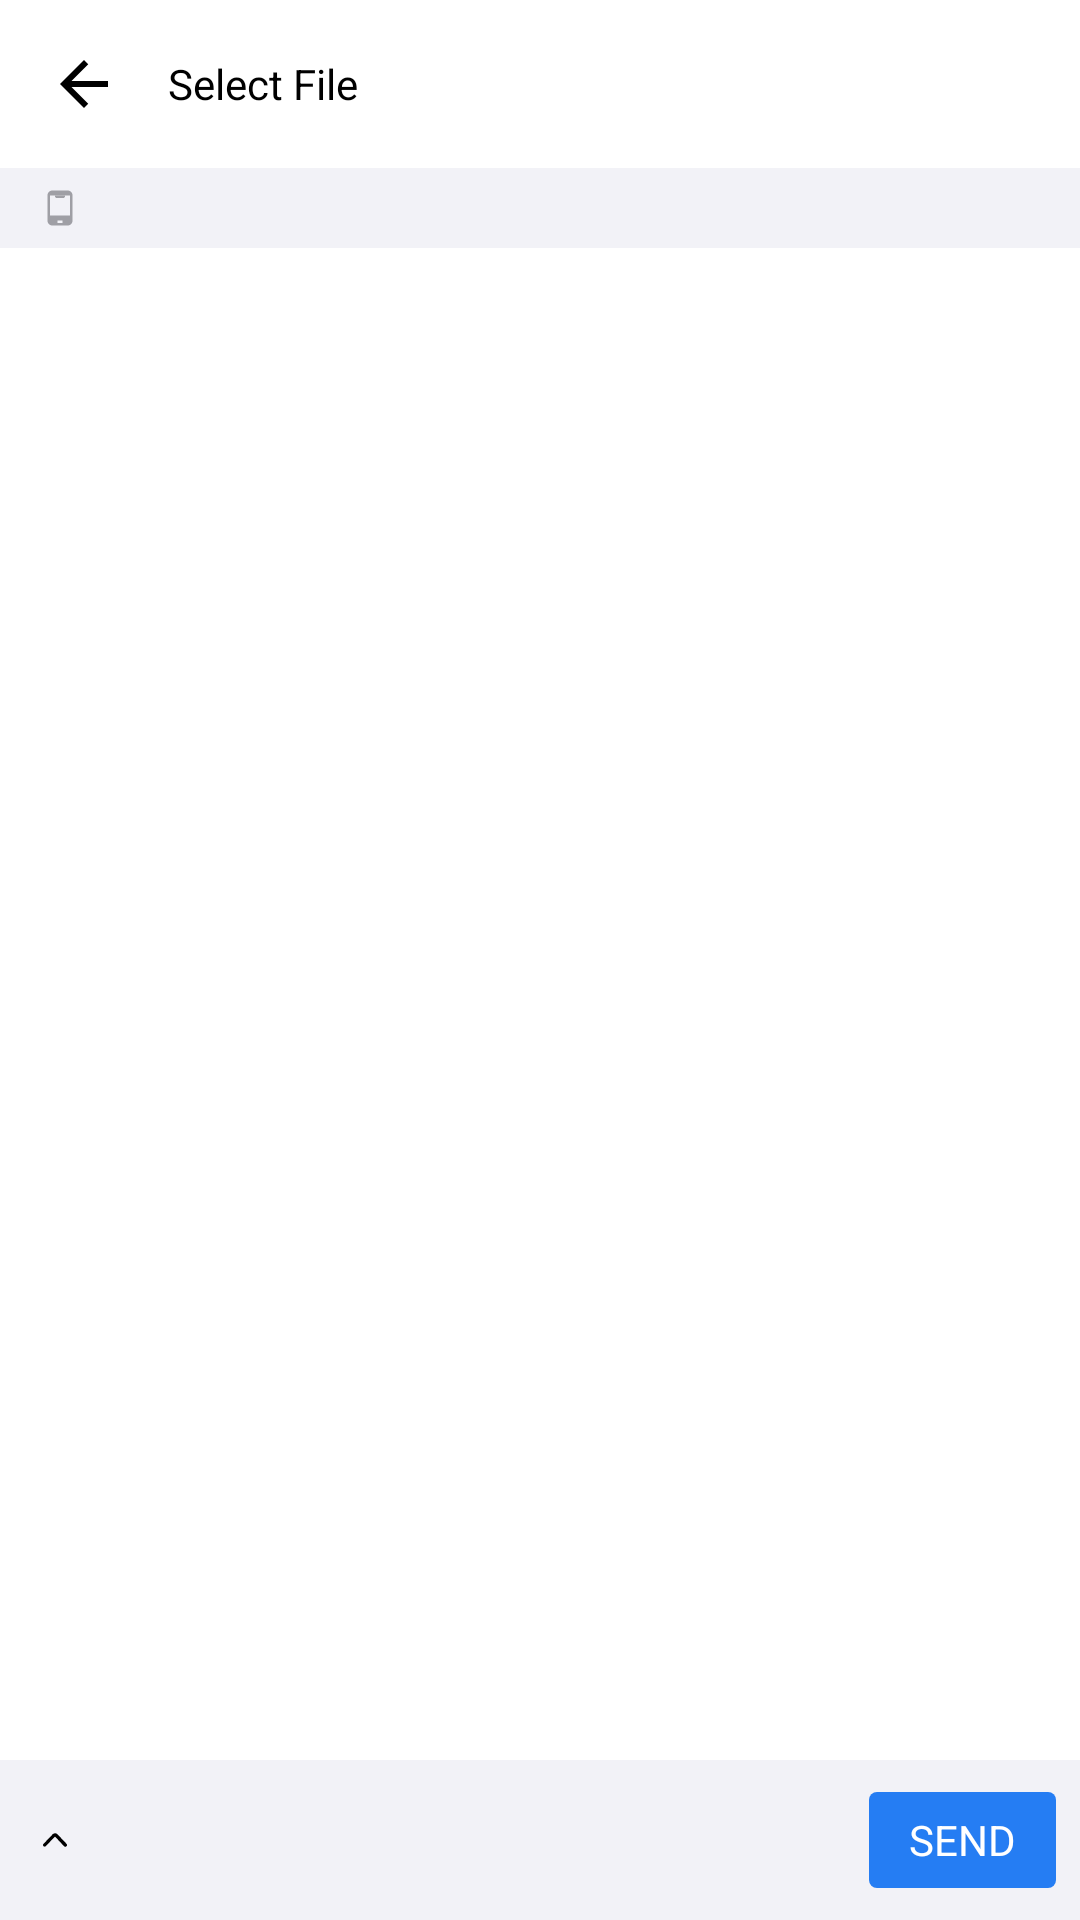

Icon click points for this 1080 x 1920 phone screenshot, format point (x, y):
arrow back: point (84, 84)
storage: point (60, 208)
transfer up more: point (55, 1840)
